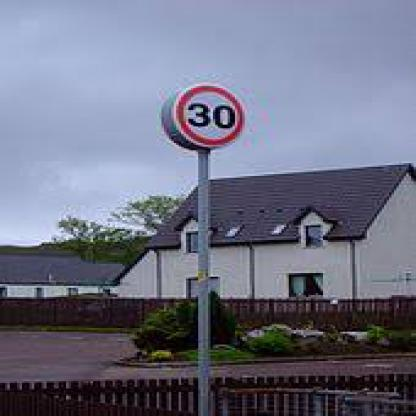Speed Limit 30: (174, 79, 246, 150)
